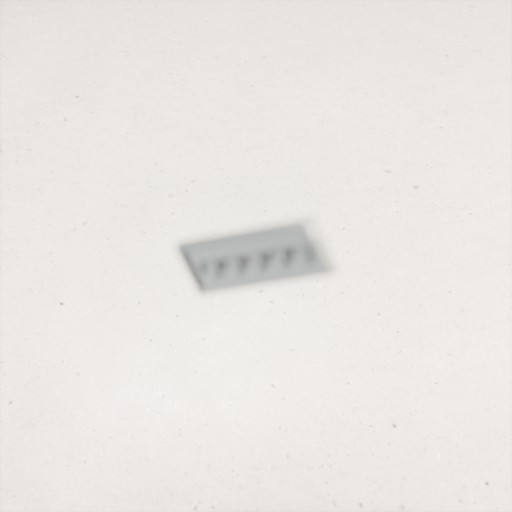lego: (173, 216, 340, 296)
